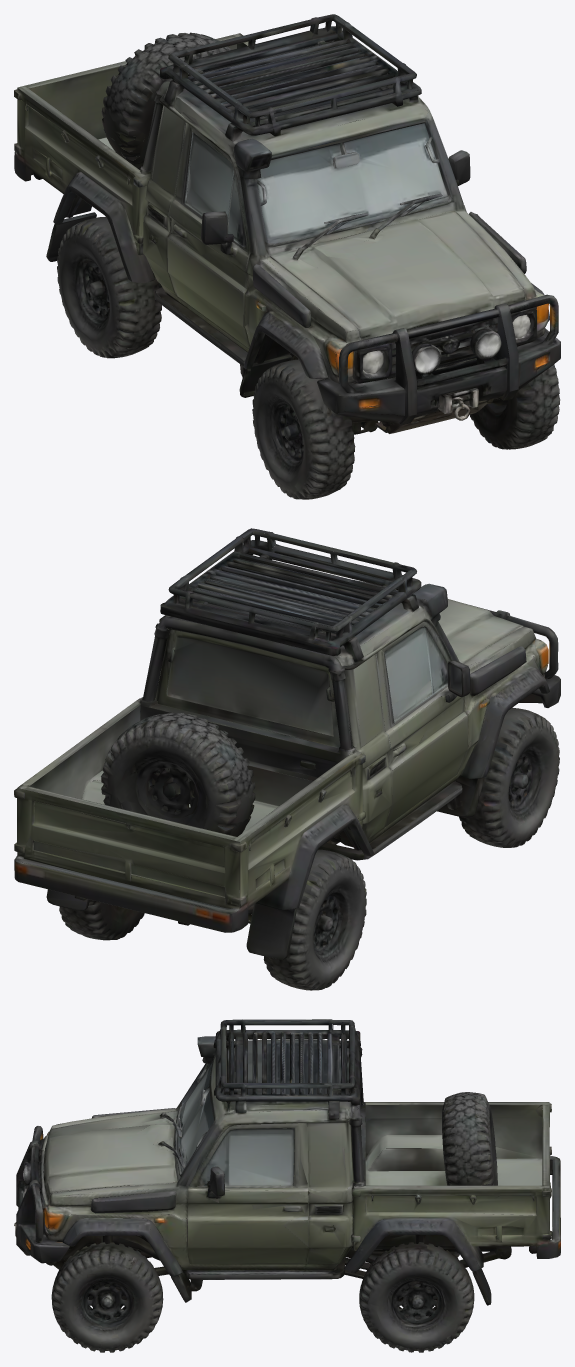
The model's file is truck4x4.glb.
3 views of the same model, one above another, from view 1: azimuth 30°, elevation 25°; view 2: azimuth 150°, elevation 25°; view 3: azimuth 270°, elevation 25° (orthographic). The views are drawn at different scales.
Parts seen in each view (by area): view 1: body, wheel_RR, wheel_FR, wheel_RL; view 2: body, wheel_RR, wheel_FR, wheel_FL; view 3: body, wheel_RL, wheel_FL.
Boxes of the visible parts, x1,y1,x2,y2 form: body: [14, 14, 560, 434]; wheel_RR: [242, 329, 359, 499]; wheel_FR: [57, 217, 161, 358]; wheel_RL: [470, 310, 560, 449]; body: [14, 528, 560, 959]; wheel_RR: [459, 680, 559, 847]; wheel_FR: [263, 849, 366, 990]; wheel_FL: [59, 899, 144, 940]; body: [14, 1019, 560, 1305]; wheel_RL: [39, 1218, 180, 1352]; wheel_FL: [359, 1235, 474, 1352].
Bounding box in the file's own units: 1.8 × 2.08 × 4.
1 material, 1 textured.
